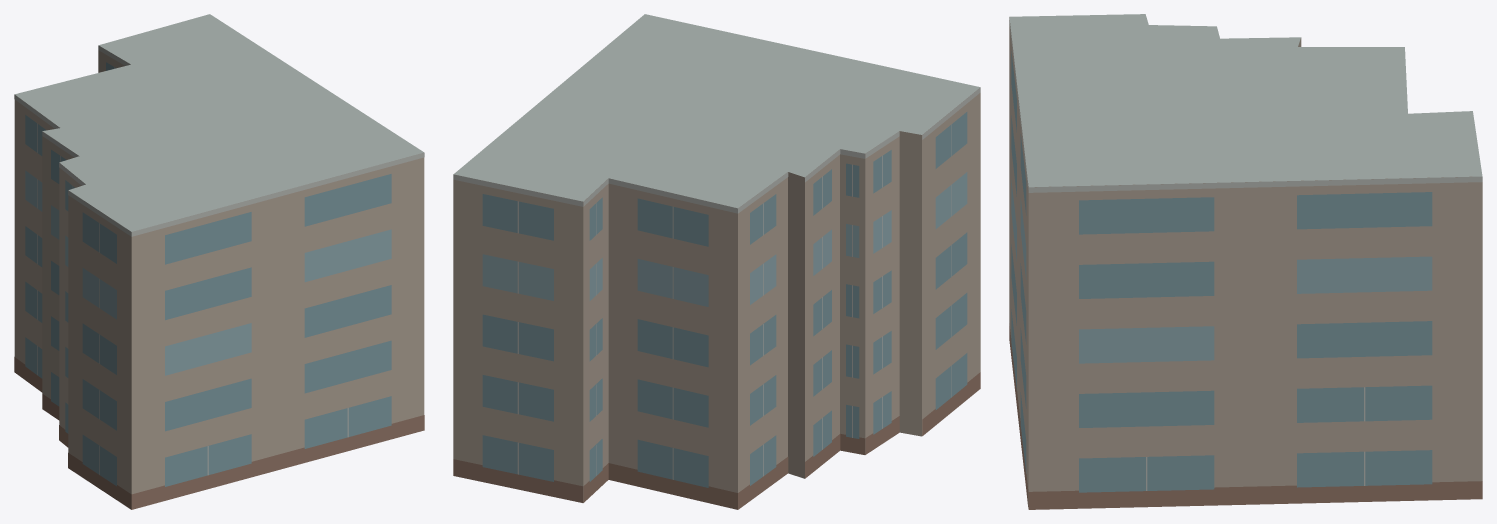
File: survey-upis-32602916.glb
3 renders of one model, left to right at view 1: azimuth 30°, elevation 25°; view 2: azimuth 150°, elevation 25°; view 3: azimuth 270°, elevation 25°, orthographic. The views are drawn at different scales.
Parts seen in each view (by area): view 1: survey-upis-32602916.tmp; view 2: survey-upis-32602916.tmp; view 3: survey-upis-32602916.tmp.
Part boxes in pixels (bbox=[...]): survey-upis-32602916.tmp: bbox=[14, 14, 424, 509]; survey-upis-32602916.tmp: bbox=[453, 14, 980, 509]; survey-upis-32602916.tmp: bbox=[1009, 14, 1482, 509].
Size of the model in its own units: 16.02 by 13.9 by 18.48.
